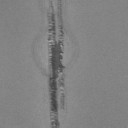slag inclusion: (46, 0, 66, 128)
